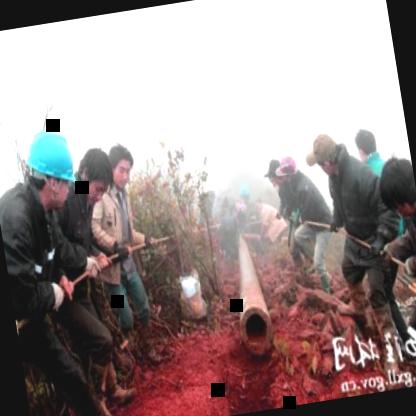head: (72, 140, 122, 209), (372, 151, 416, 226), (304, 128, 344, 183), (104, 138, 140, 193), (347, 124, 383, 165)
helmet: (16, 119, 85, 218), (276, 153, 303, 189)
